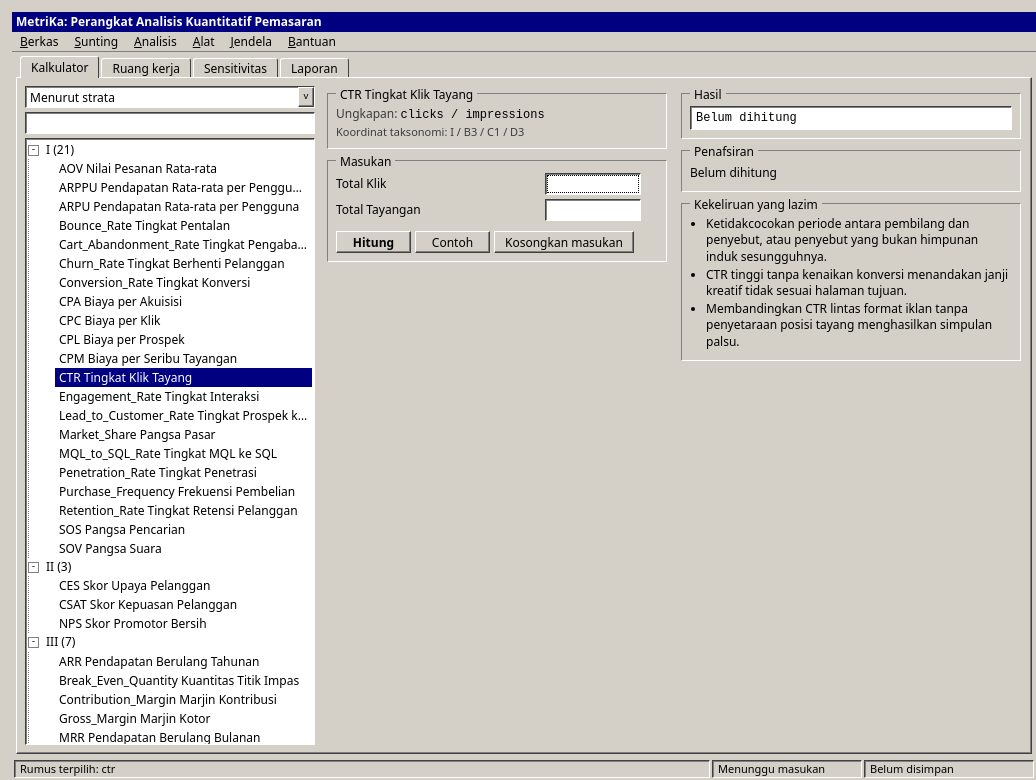
Test case: the report as a document › carries the honesty clause at the foot
Click the tab "Laporan": (314, 68) top-left (280, 58), bottom-right (348, 78)
(page scrolled)
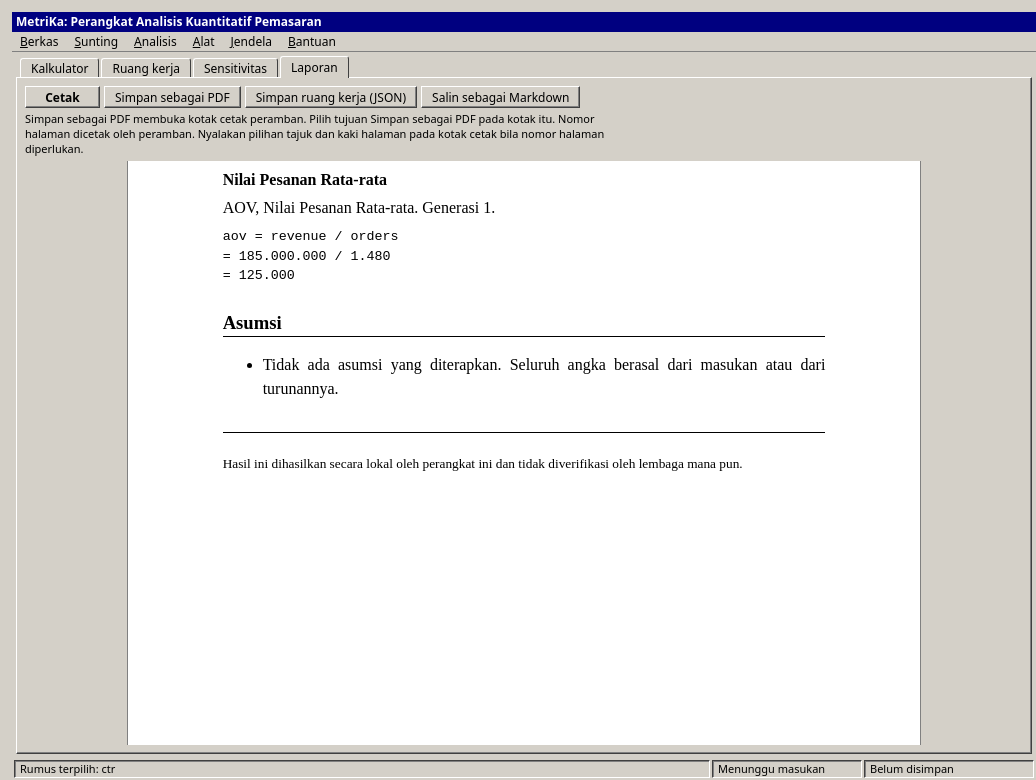
Check: the footer with class "mk-paper__footer" shows "tidak diverifikasi oleh lembaga mana pun", box top-left (223, 456), bottom-right (743, 471)
